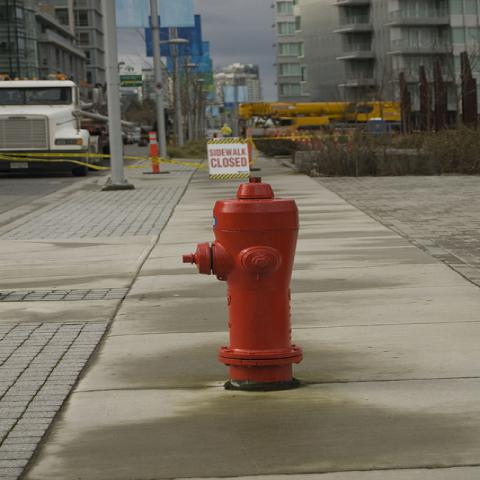truck: (2, 78, 104, 176), (271, 116, 332, 130)
